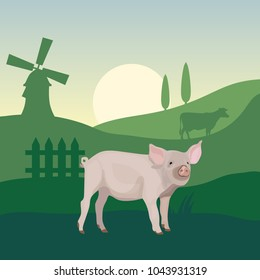animal: (70, 139, 205, 229)
sun: (91, 66, 169, 123)
tree: (179, 62, 189, 106)
